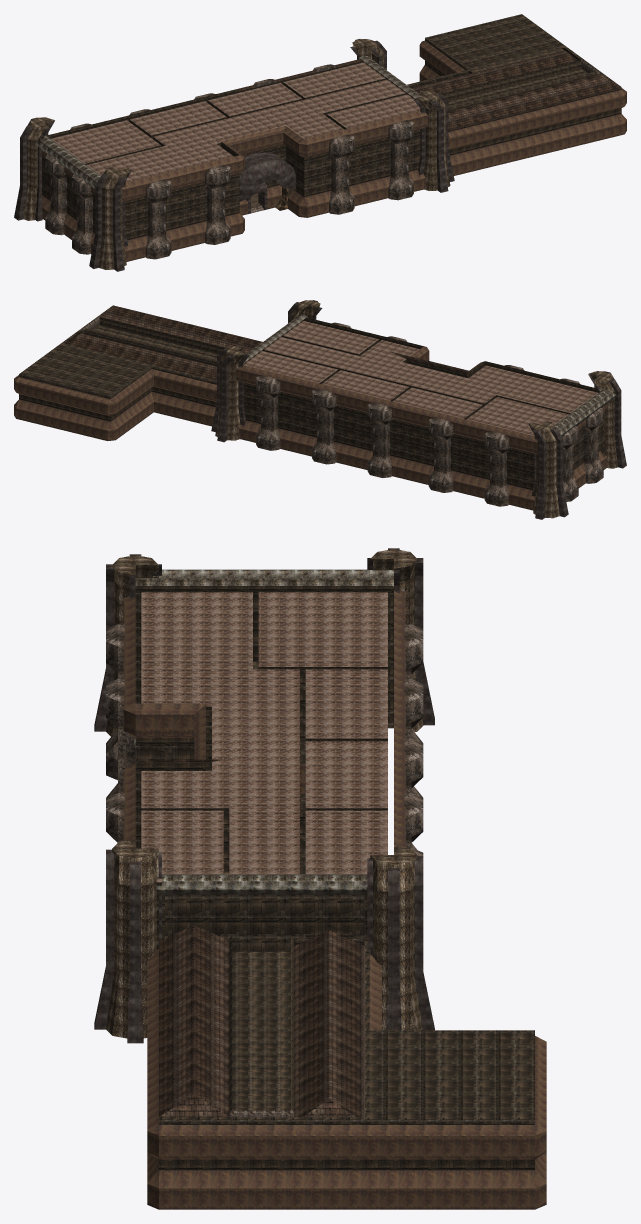
File: buildings_large_tavern1.glb
3 views of the same model, one above another, from view 1: azimuth 30°, elevation 25°; view 2: azimuth 150°, elevation 25°; view 3: azimuth 270°, elevation 25° (orthographic). The views are drawn at different scales.
Parts seen in each view (by area): view 1: tavern1; view 2: tavern1; view 3: tavern1.
Part boxes in pixels (bbox=[...]): tavern1: bbox=[14, 14, 626, 271]; tavern1: bbox=[14, 300, 626, 519]; tavern1: bbox=[94, 548, 546, 1209].
Size of the model in its own units: 102 by 16 by 38.5.
14 materials, 14 textured.
